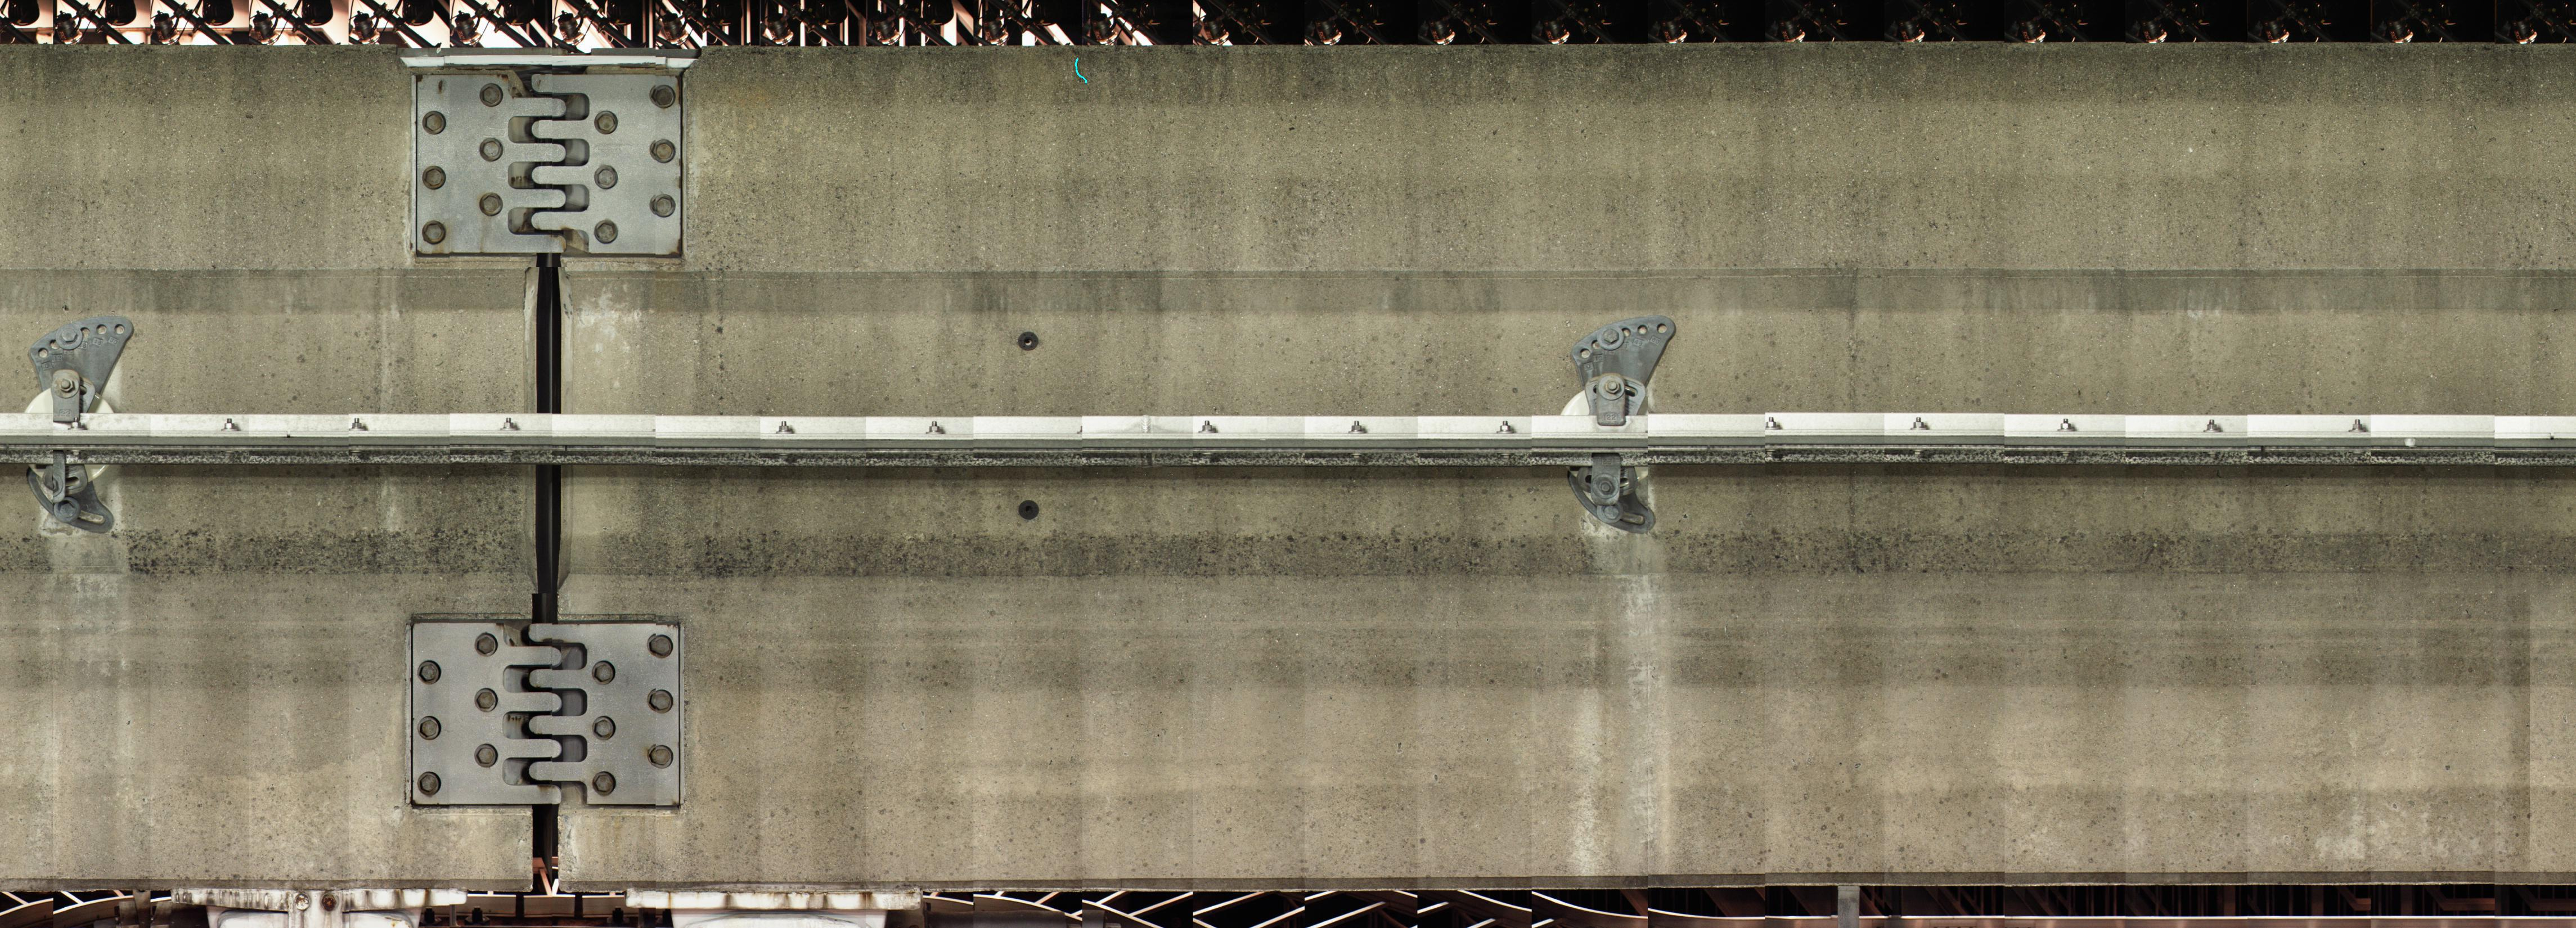concrete: (557, 466, 2573, 887), (557, 49, 2573, 412), (7, 463, 529, 892), (0, 46, 526, 424)
